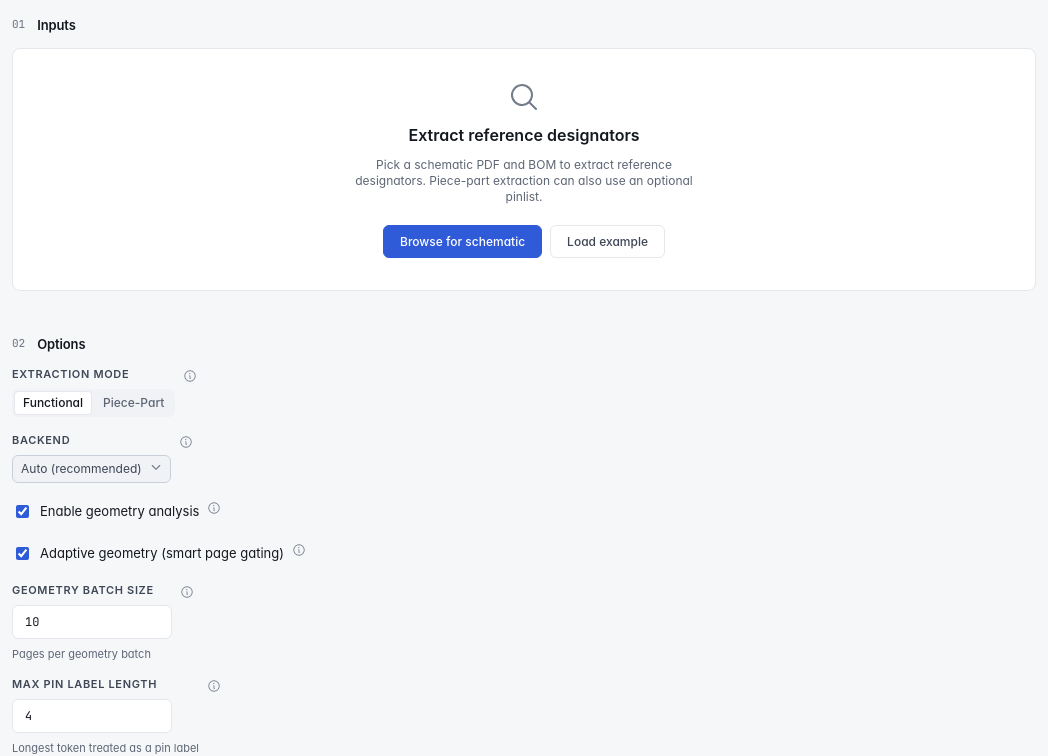
Test: RefDesExtractorTool piece-part mode › shows the pinlist slot in Piece-Part mode after the first browse
Check: the heading "Extract reference designators" is shown, box [408,124,640,144]
Click the radio button labelled "Piece-Part": (134, 403) [94,391,173,415]
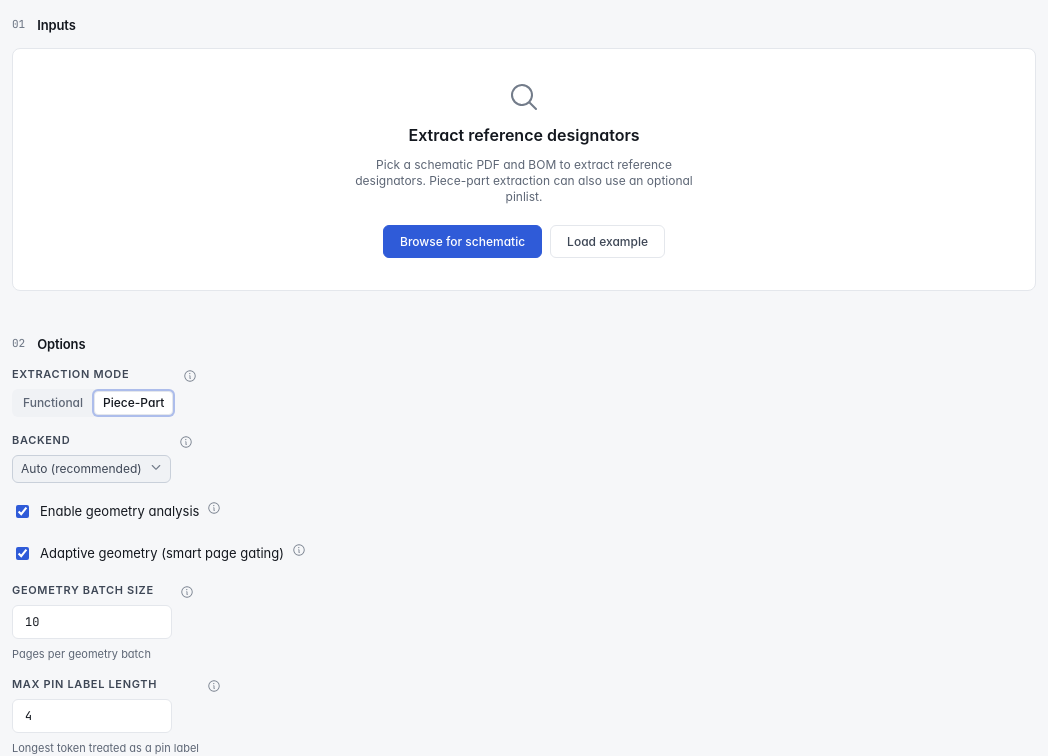
Check: the heading "Extract reference designators" is shown, box [408,124,640,144]
Click the button "Browse for schematic": (463, 242) [383,225,542,258]
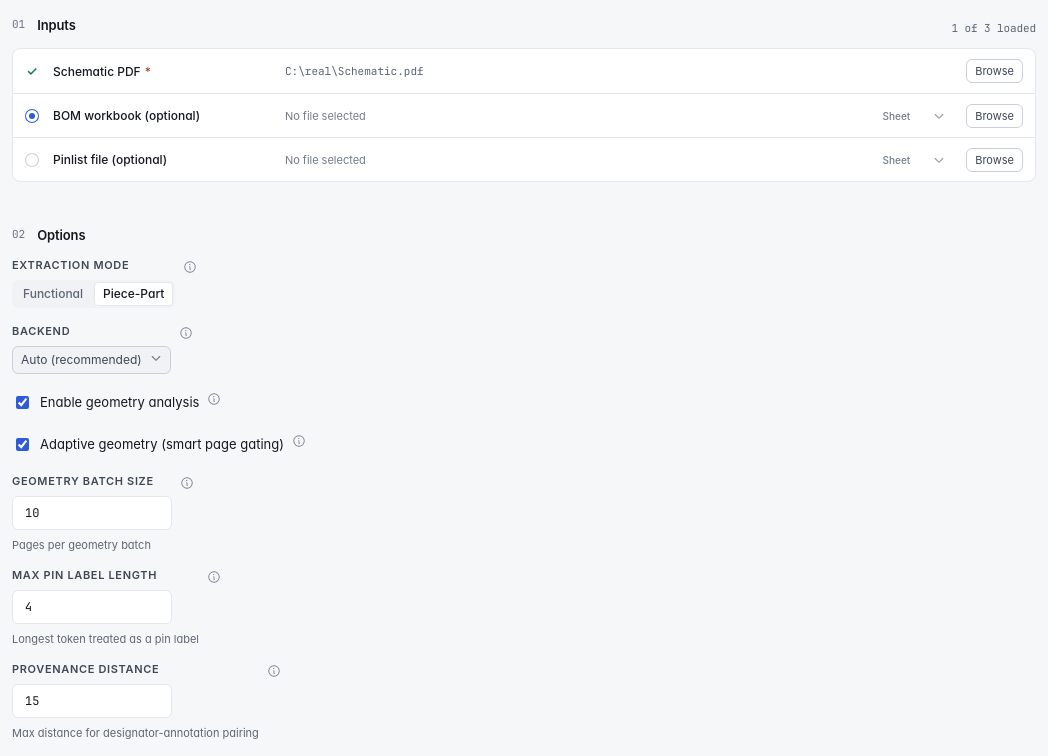
Check: the text "BOM workbook (optional)" is shown, box [53,108,200,123]
Check: the text "Pinlist file (optional)" is shown, box [53,152,167,167]
Check: the number of buttons "Browse" is 3, box [966,59,1023,83]; [966,104,1023,128]; [966,148,1023,172]
